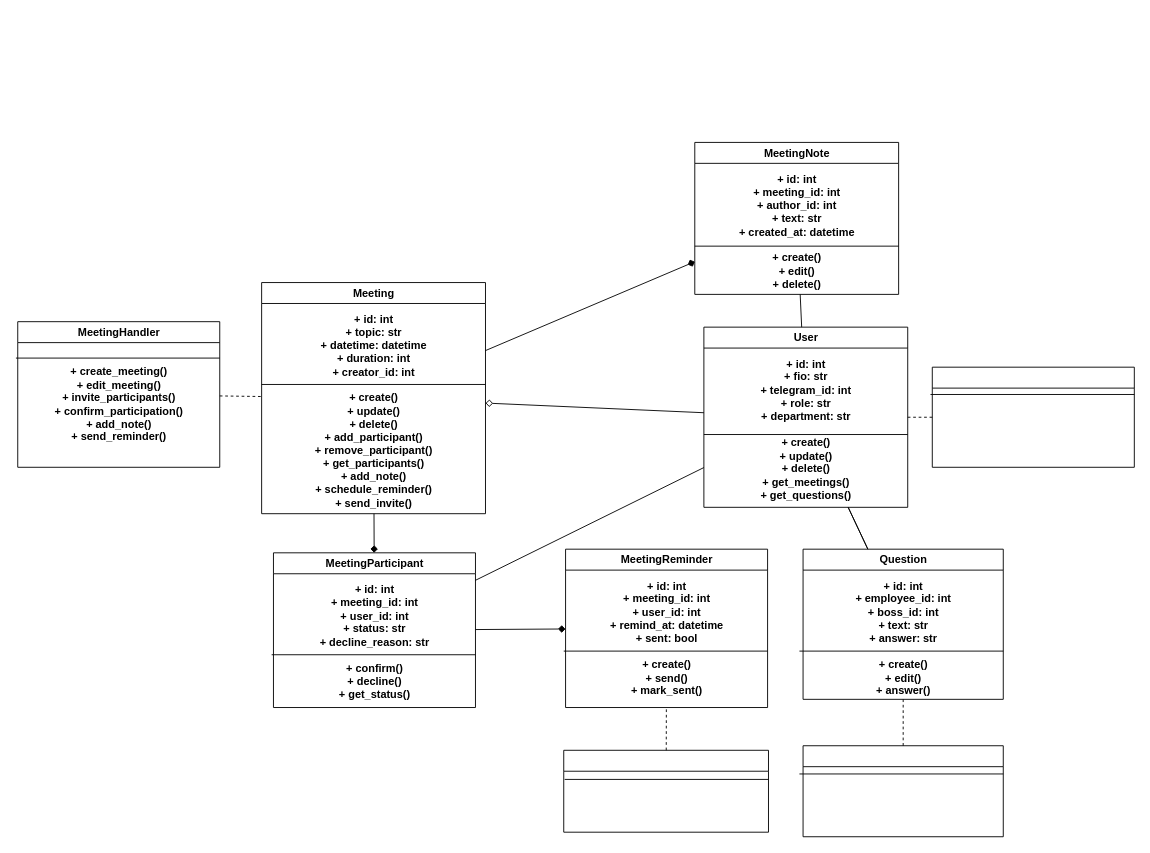
Image size: 1150x853. Some labels were removed from this diagram. Here are the shapes that lost their labels. From the top down, the centre of each, then its label:
(1032,416): UserHandler + add_user() + edit_user() + delete_user() + get_user()
(665,790): ReminderHandler + schedule_reminder() + send_reminder()
(902,791): QuestionHandler + create_question() + answer_question() + edit_question()
